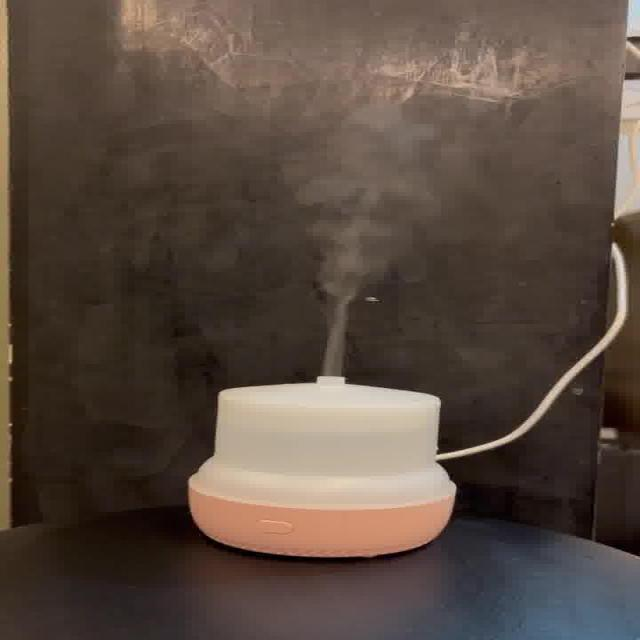fire: (274, 108, 440, 372)
